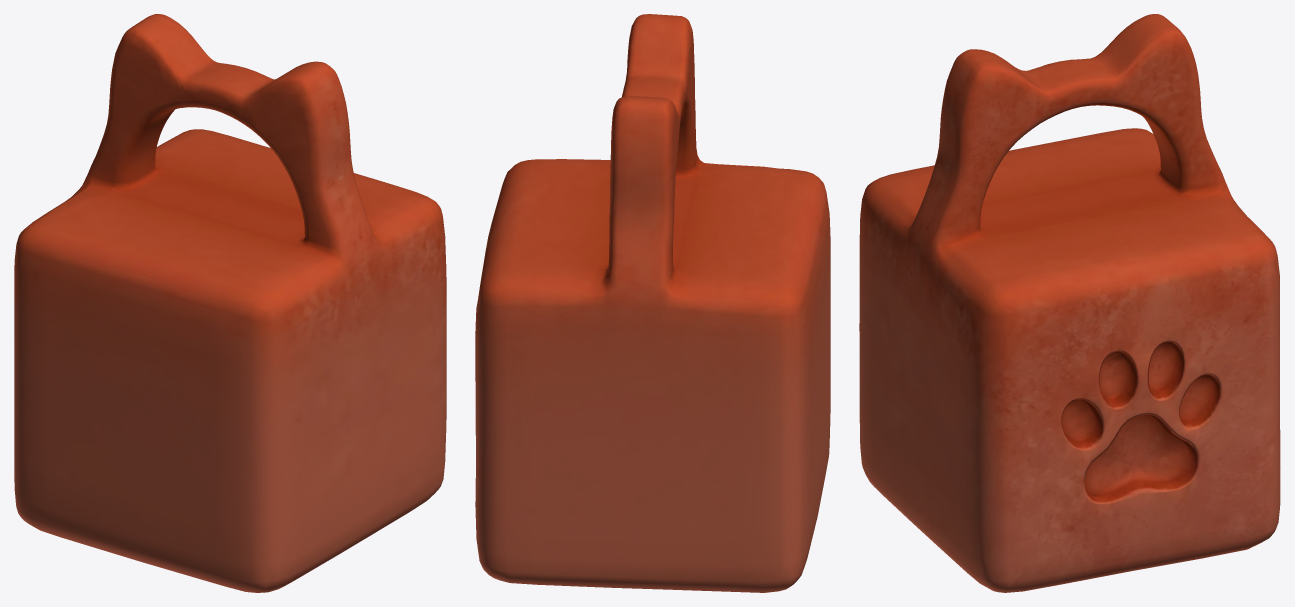
Rendered from supreme-seal.glb.
3 views of the same model, side by side, from view 1: azimuth 30°, elevation 25°; view 2: azimuth 150°, elevation 25°; view 3: azimuth 270°, elevation 25° (orthographic).
Parts seen in each view (by area): view 1: tripo_node_50d43a68-8075-487d-8bc6-3d77dad7151d; view 2: tripo_node_50d43a68-8075-487d-8bc6-3d77dad7151d; view 3: tripo_node_50d43a68-8075-487d-8bc6-3d77dad7151d.
Part boxes in pixels (box(x1,y1,x2,y2)): tripo_node_50d43a68-8075-487d-8bc6-3d77dad7151d: box(14, 14, 446, 592); tripo_node_50d43a68-8075-487d-8bc6-3d77dad7151d: box(475, 14, 830, 592); tripo_node_50d43a68-8075-487d-8bc6-3d77dad7151d: box(859, 14, 1280, 592).
Bounding box in the file's own units: 0.797 × 0.9995 × 0.7939.
Materials: 1 (1 with a texture image).
